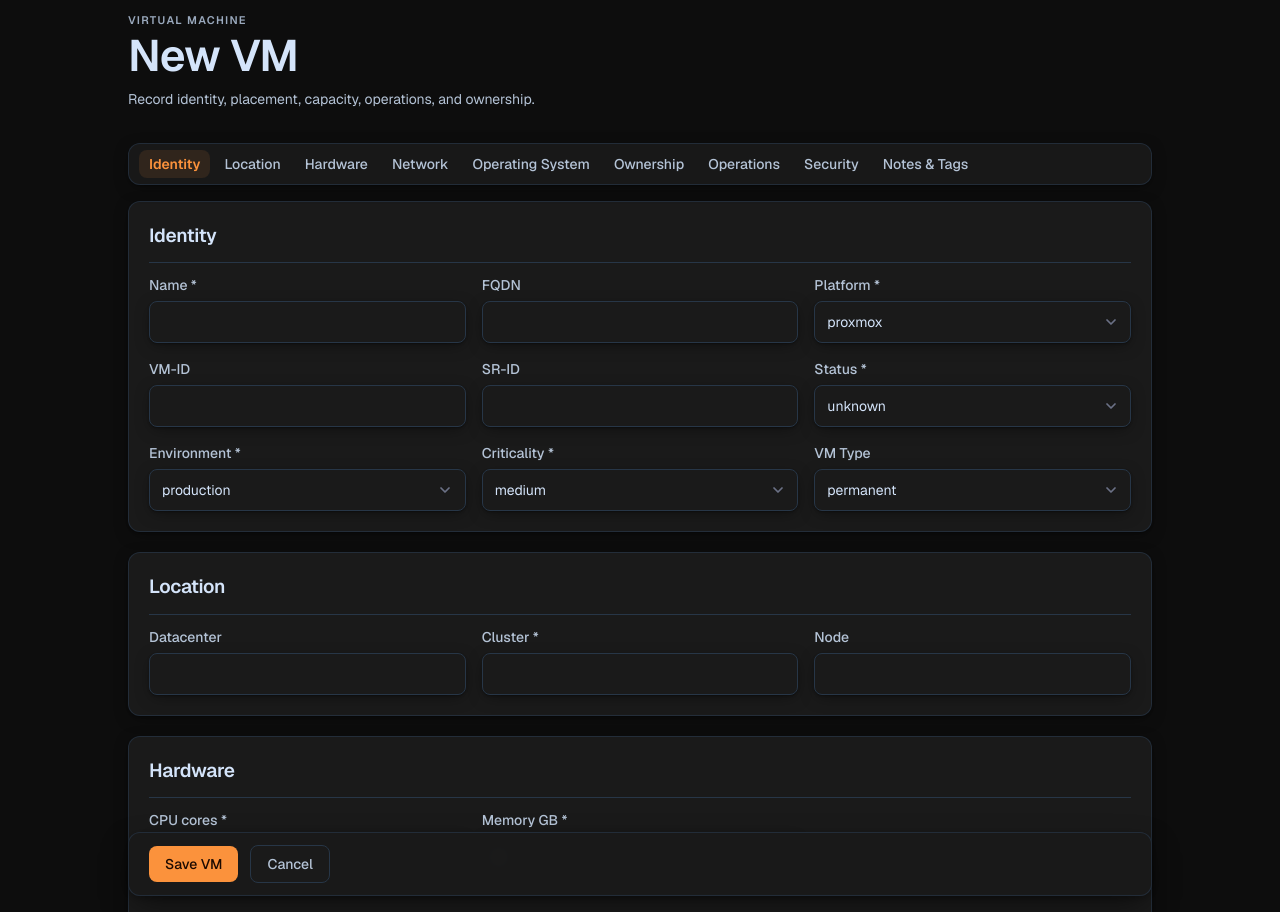
Test: VmFormPage combo/owner autocomplete › anchors datacenter suggestions to a relative wrapper and closes them on blur
Type "dc-east" into the dropdown labelled "Datacenter" at point(307, 674), box [149,653,466,695]
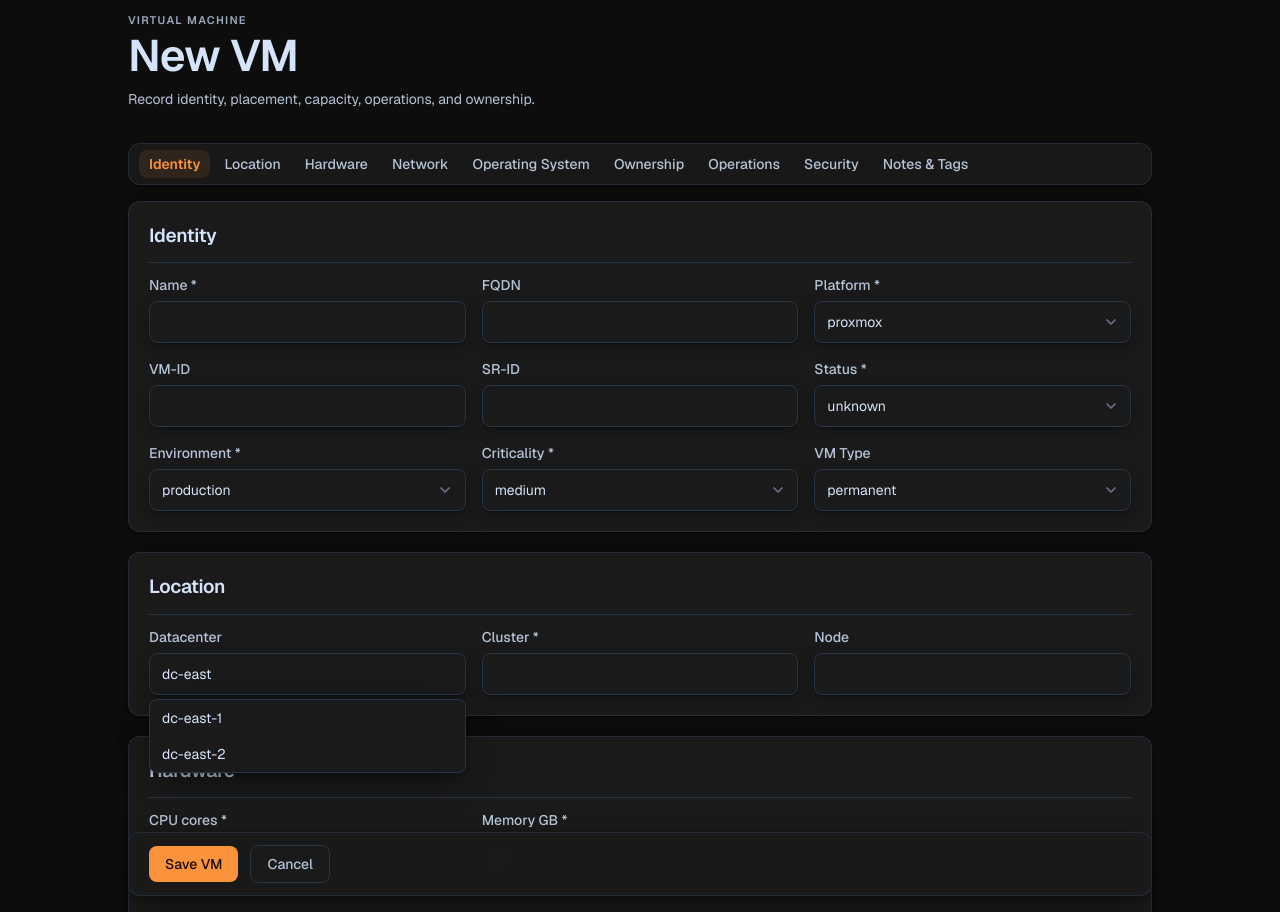
Expected: the button "dc-east-1" is shown, [150,700,465,736]
Leave the dropdown labelled "Datacenter", box [149,653,466,695]
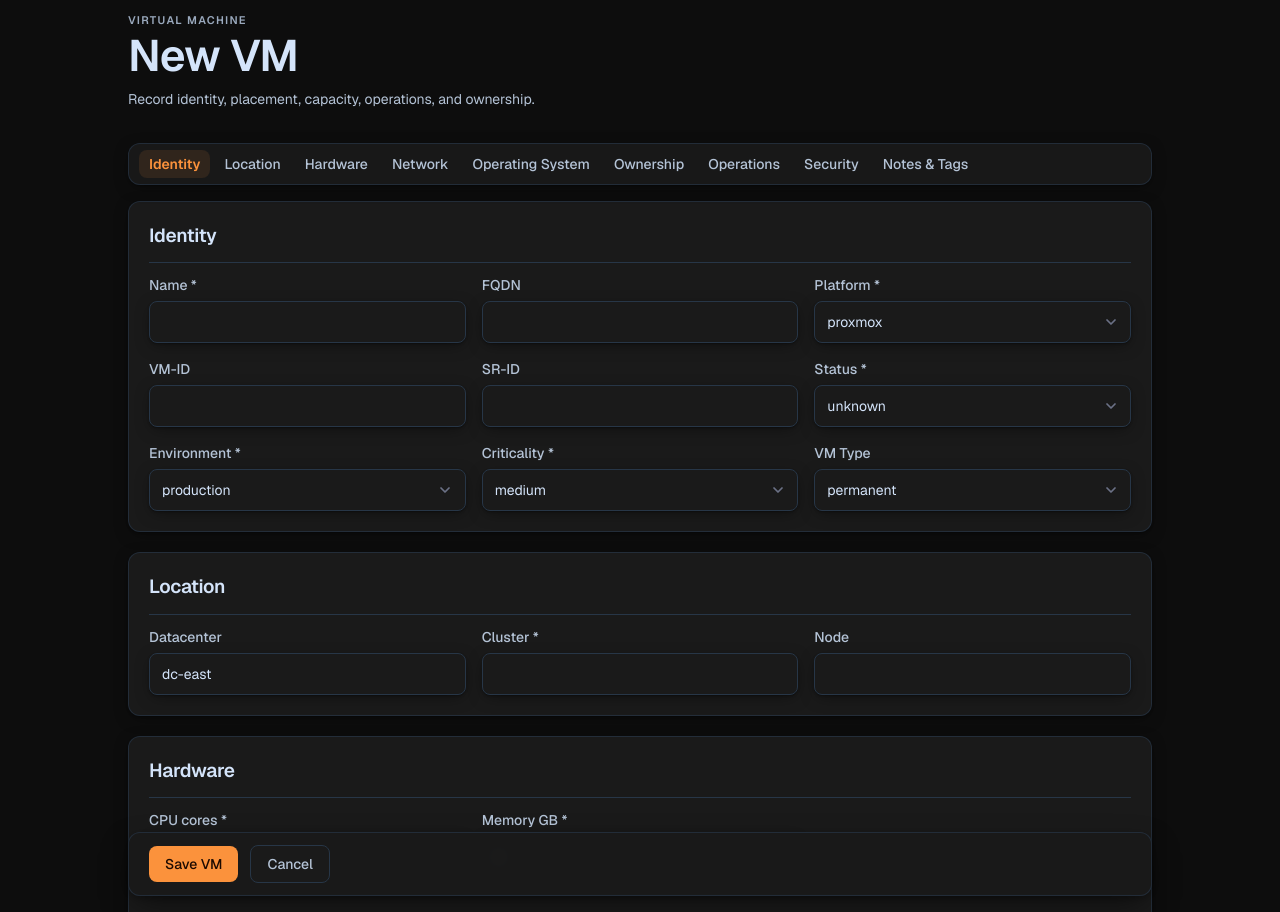
Expected: the button "dc-east-1" is gone
